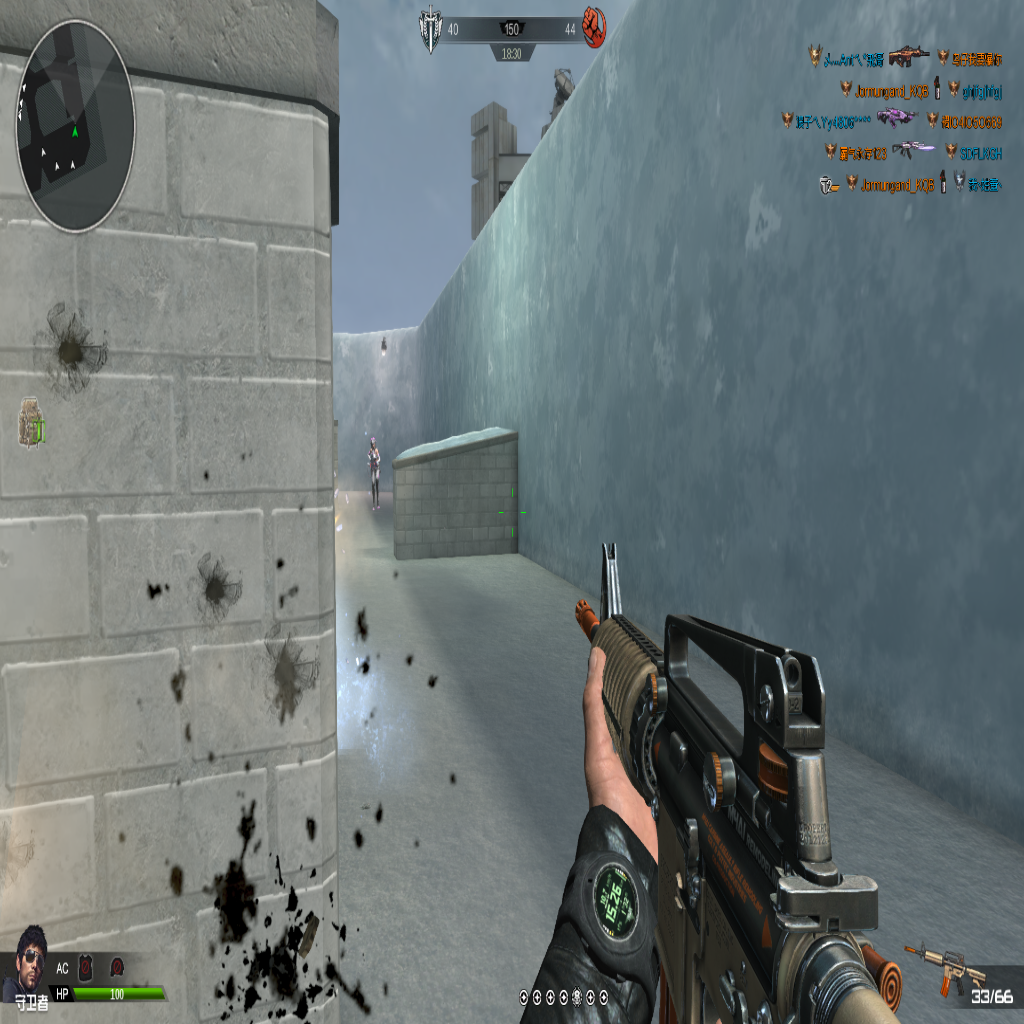tt: (368, 437, 380, 510)
